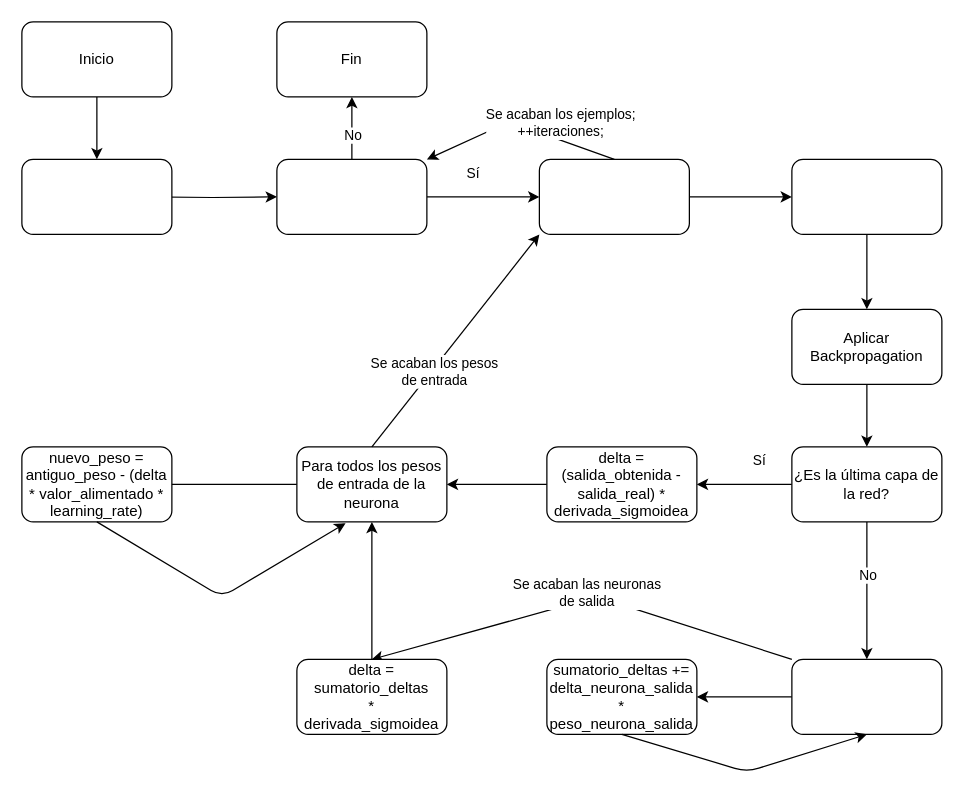
The diagram is 964 pixels wide and 804 high, and some of its shapes have lost their labels. The shapes that lost their labels are listed below. From the top down, each one's centre as x and y in pixels, then its label:
point 96,196: Crear una red neuronal con pesos asignados aleatoriamente
point 351,196: ¿iteraciones < n ?
point 613,196: Para todos los ejemplos del dataset
point 866,196: Alimentar la red con un ejemplo y guardar la salida de cada neurona
point 866,696: Para todas las neuronas de salida de esta
